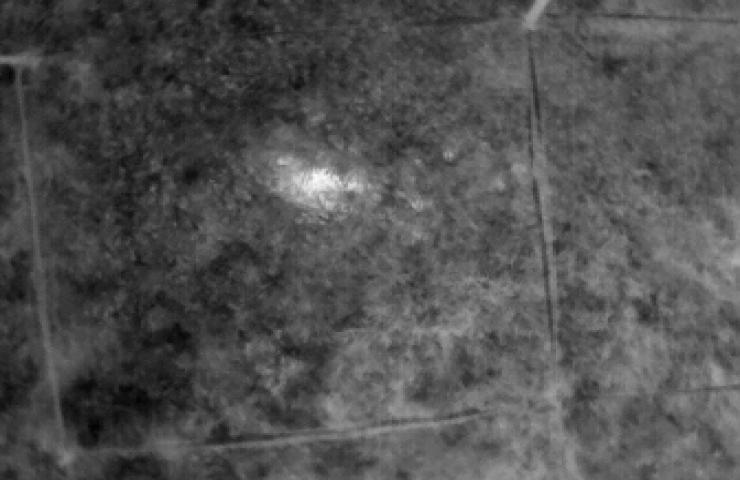landmines: (291, 164, 352, 201)
